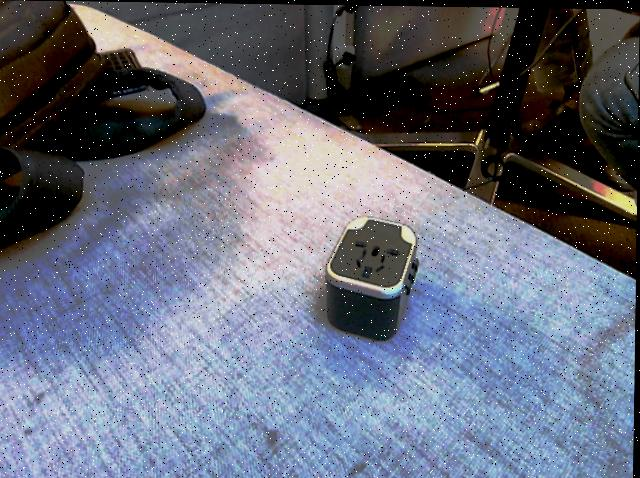adapter: (325, 215, 421, 340)
